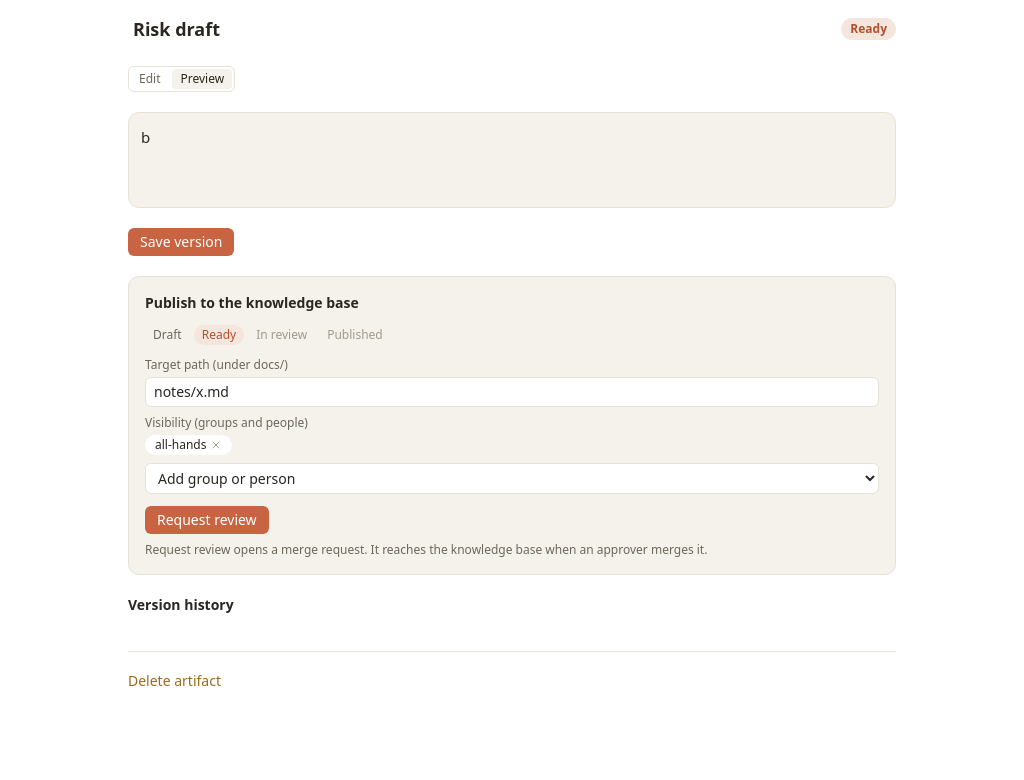
Test case: ArtifactEditor publishing › publishes via the publish endpoint and surfaces the MR url
Click the button "Request review" at [207, 520], box left=145, top=506, right=269, bottom=534
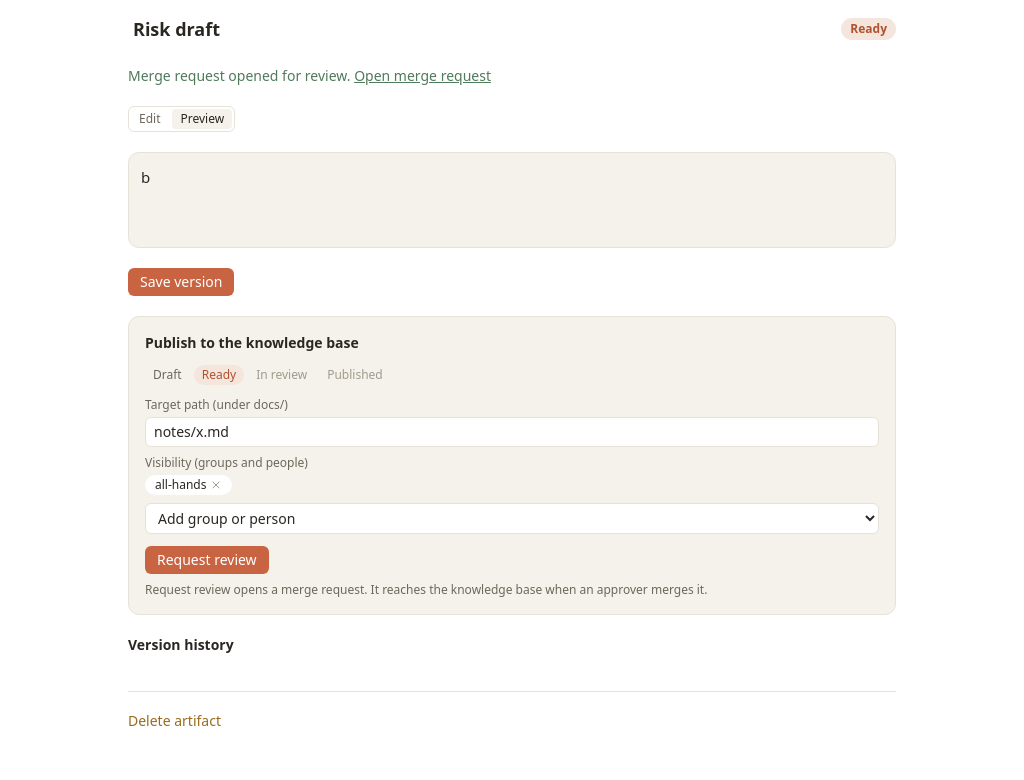
Check: the text "Merge request opened for review. Open merge request" is shown, box left=128, top=66, right=491, bottom=85
